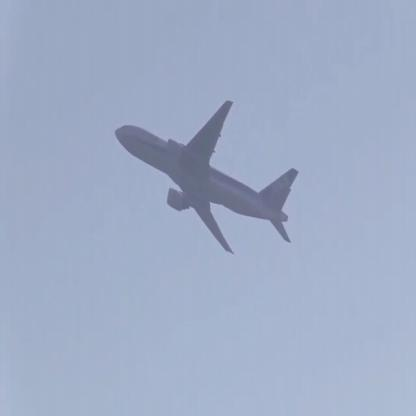CIV_Plane: (115, 101, 302, 258)
